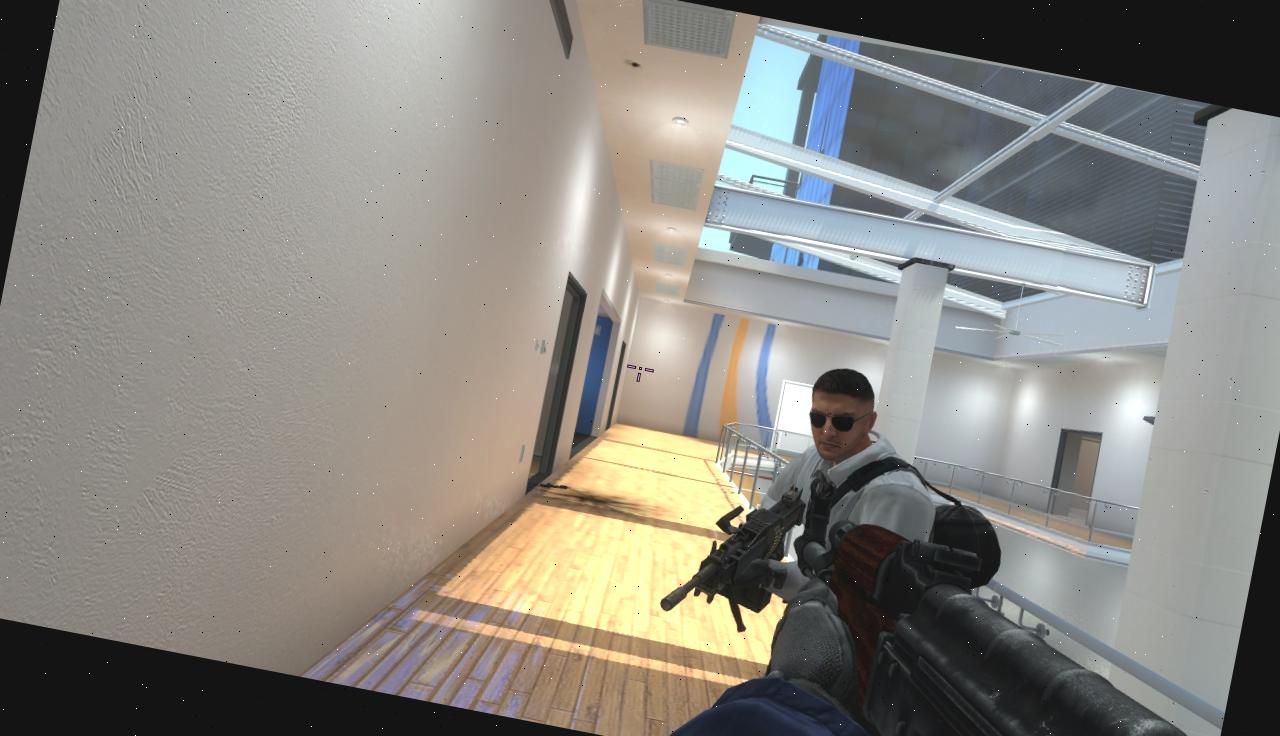rifle: (748, 491, 1251, 736)
tt: (770, 358, 961, 534)
tthead: (796, 362, 884, 467)
